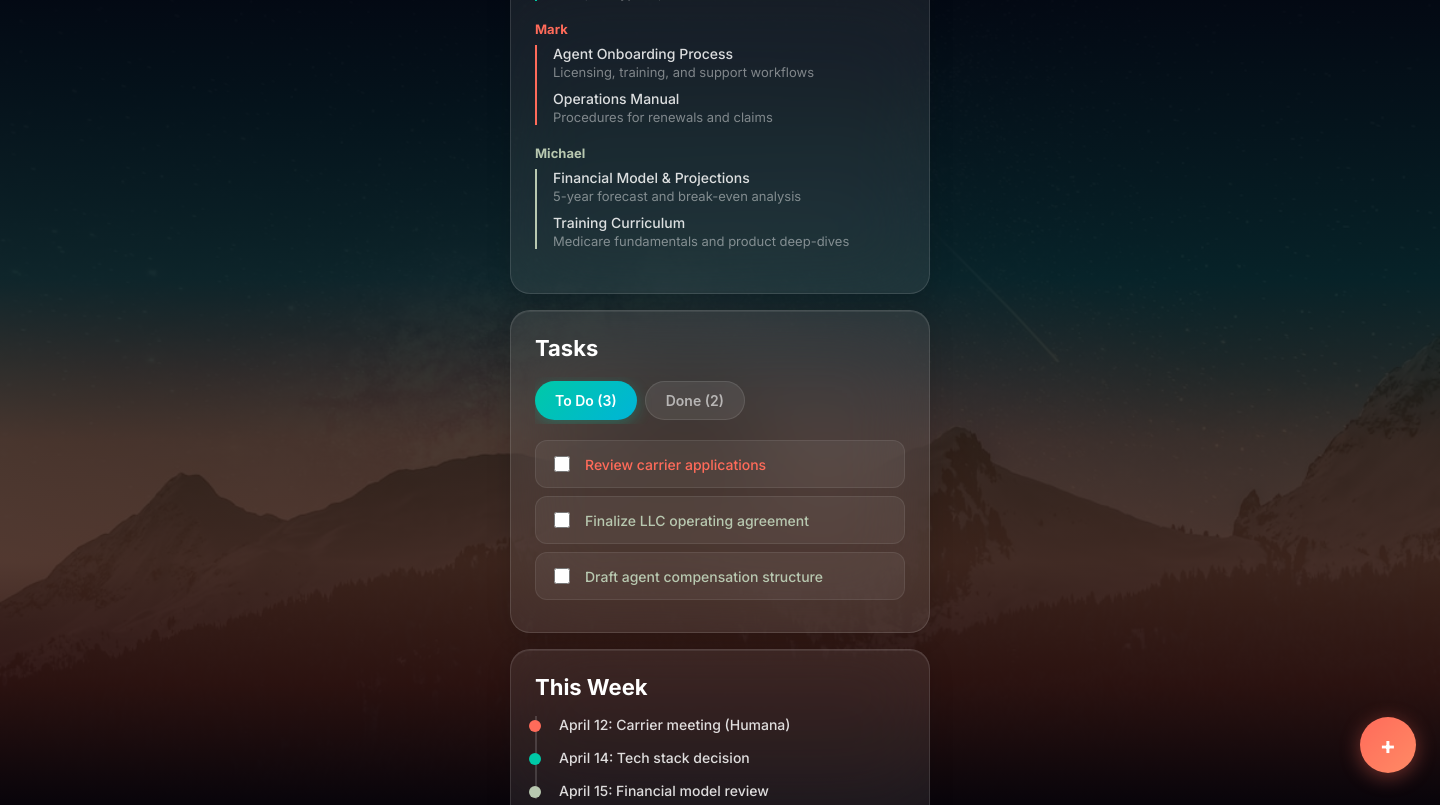
Home page › switches to Done tab on click
(page scrolled)
What coordinates should you click on to do the following:
click the button "Done (2)"
I would click on:
 (695, 400)
Its box is top-left (645, 381), bottom-right (745, 420).
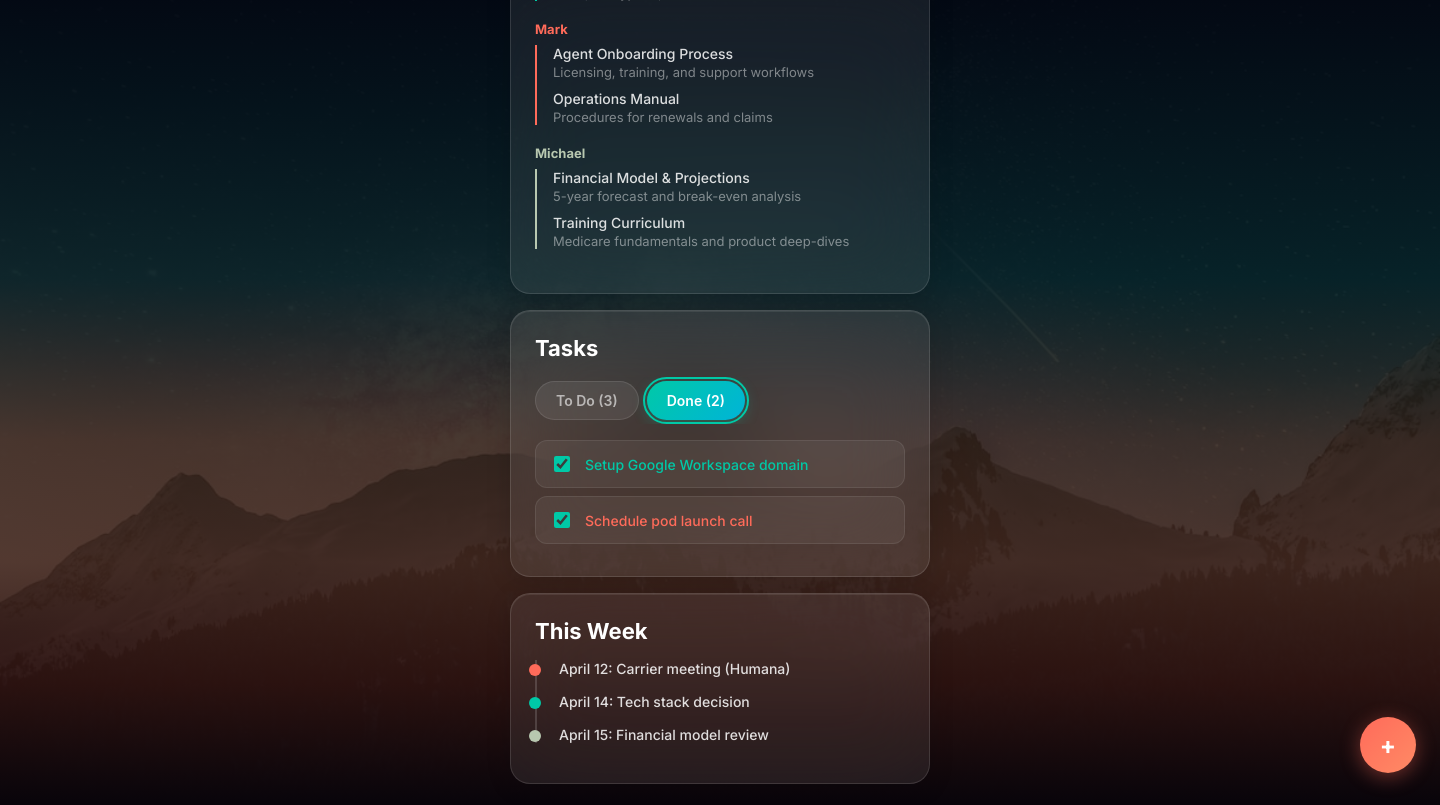
Now the text "Setup Google Workspace domain" is shown, box top-left (585, 456), bottom-right (808, 472)
